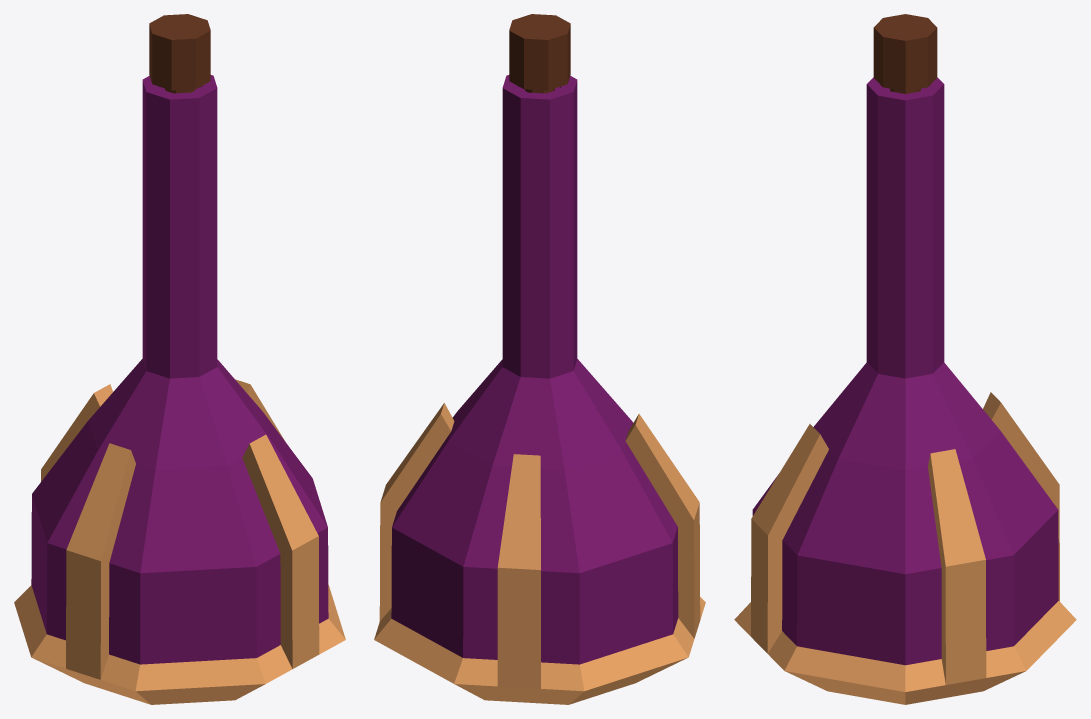
File: potion_magenta.glb
3 views of the same model, side by side, from view 1: azimuth 30°, elevation 25°; view 2: azimuth 150°, elevation 25°; view 3: azimuth 270°, elevation 25° (orthographic).
Visible parts, largest first — view 1: Potion; view 2: Potion; view 3: Potion.
Part boxes in pixels (<box>): Potion: <box>14,14,345,704</box>; Potion: <box>374,14,705,704</box>; Potion: <box>734,14,1076,704</box>.
Size of the model in its own units: 0.5738 by 1.17 by 0.5738.
